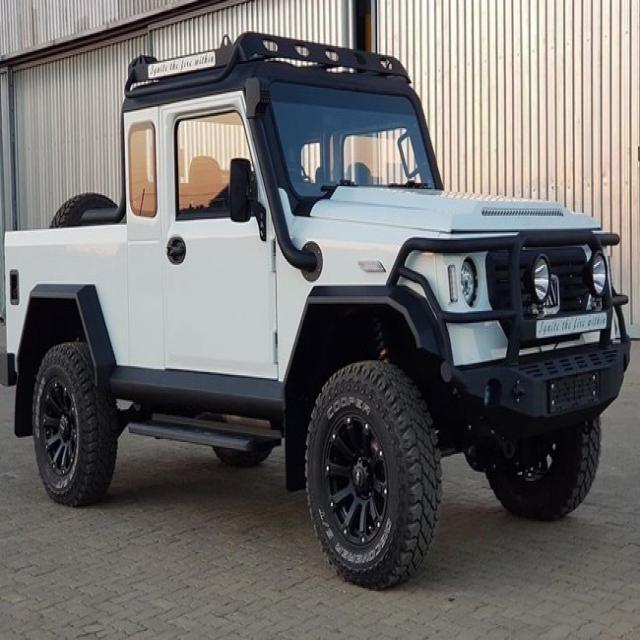Pickup Trucks: (5, 16, 630, 592)
